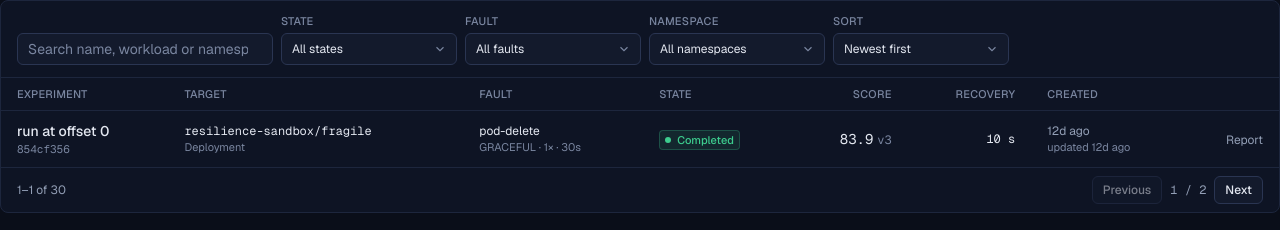
Scenario: Experiment history › pagination requests the next offset and keeps the page in the URL
Expected: the text "1–1 of 30" is shown, [17,182,66,198]
Expected: the text "1 / 2" is shown, [1170,182,1206,198]
Click the button "Next" at point(1239, 190), box [1214,176,1263,204]
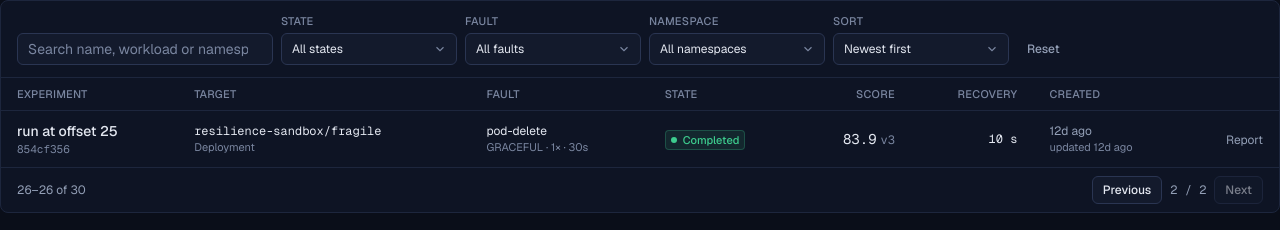
Expected: the link "run at offset 25" is shown, [17,122,118,140]
Expected: the button "Next" is disabled, [1214,176,1263,204]
